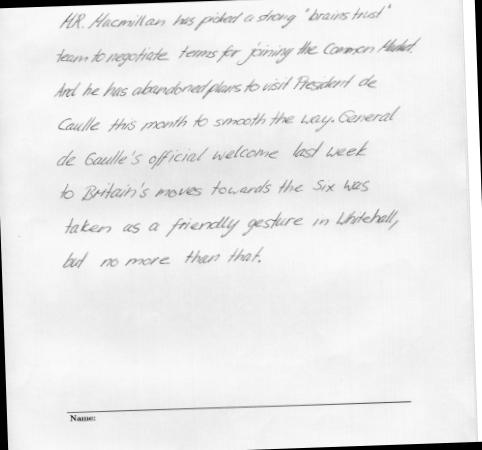text: (52, 33, 423, 74), (55, 102, 402, 143), (61, 205, 402, 245), (50, 68, 379, 108), (56, 0, 393, 38), (54, 136, 371, 176), (56, 171, 371, 206), (60, 242, 266, 272), (68, 411, 98, 424)
